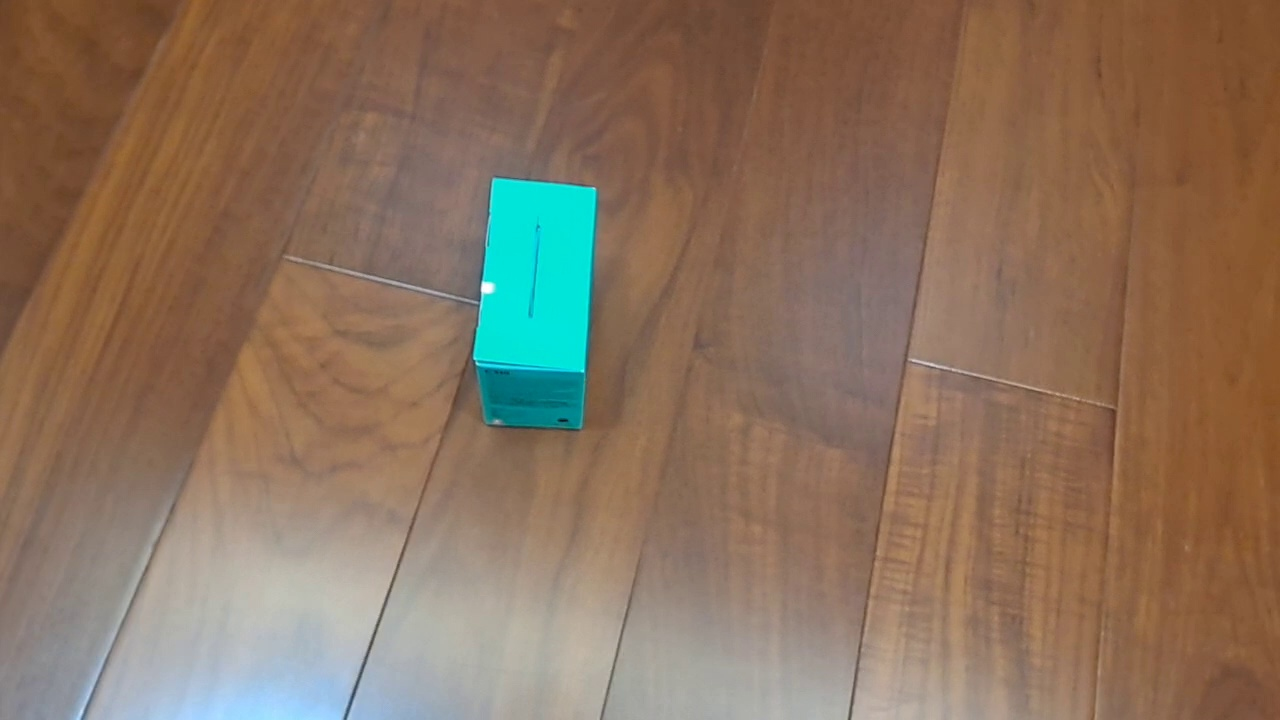webcam: (472, 176, 598, 432)
